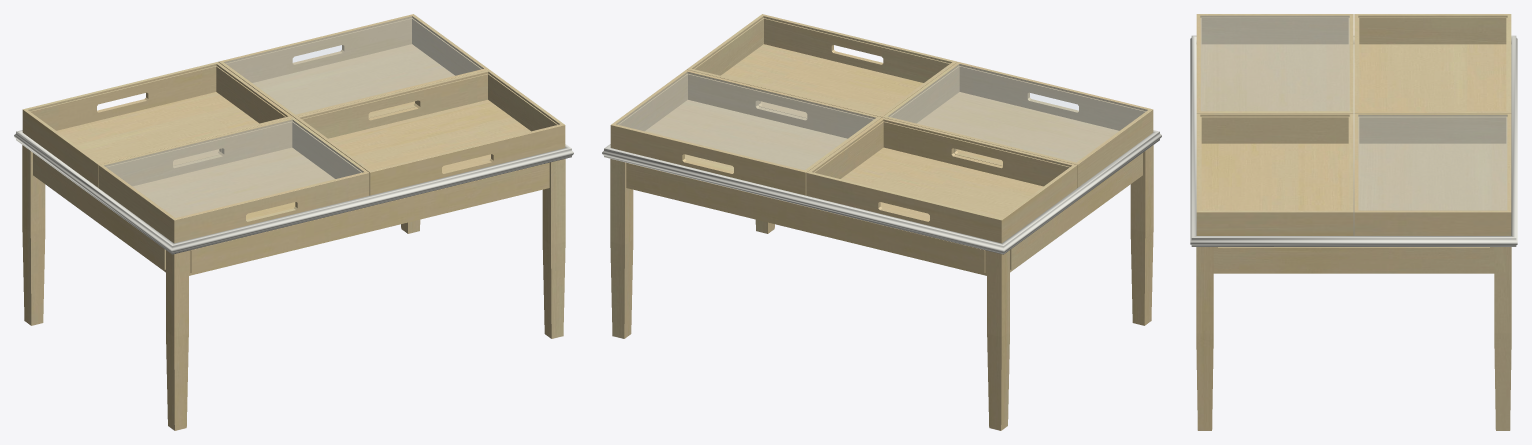
Rendered from sh_scopia_living_room_table.glb.
The picture shows the model from 3 angles, left to right: view 1: azimuth 30°, elevation 25°; view 2: azimuth 150°, elevation 25°; view 3: azimuth 270°, elevation 25°; orthographic projection. The views are drawn at different scales.
Size of the model in its own units: 1.07 by 0.536 by 0.725.
3 materials, 1 textured.
